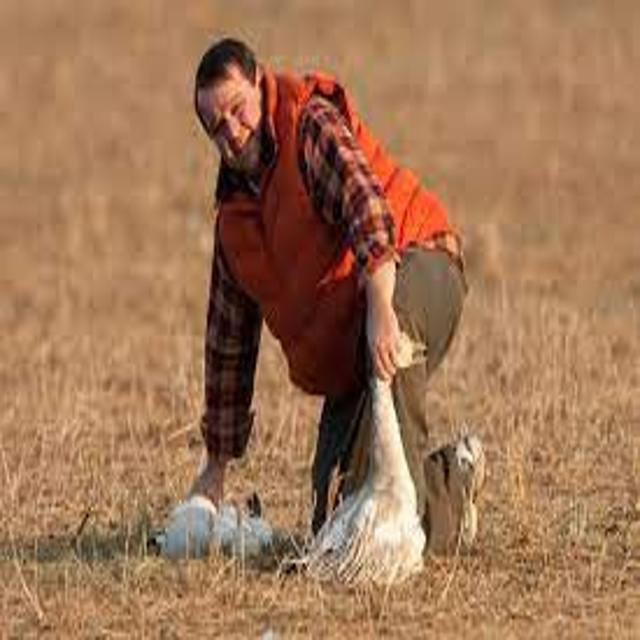poacher: (100, 18, 571, 602)
